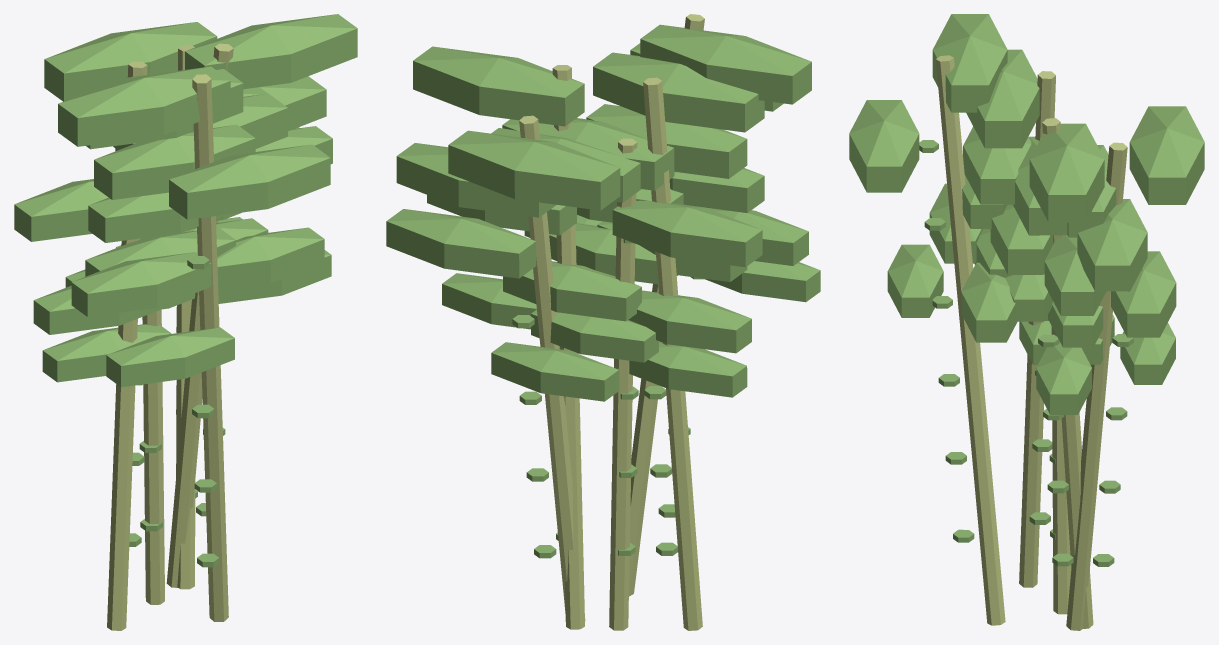
The model's file is bamboo_small.glb.
The picture shows the model from 3 angles, left to right: view 1: azimuth 30°, elevation 25°; view 2: azimuth 150°, elevation 25°; view 3: azimuth 270°, elevation 25°; orthographic projection. The views are drawn at different scales.
Parts seen in each view (by area): view 1: bamboo_small; view 2: bamboo_small; view 3: bamboo_small.
Boxes of the visible parts, x1=… form: bamboo_small: x1=14, y1=14, x2=357, y2=630; bamboo_small: x1=386, y1=14, x2=820, y2=630; bamboo_small: x1=849, y1=14, x2=1204, y2=630.
Size of the model in its own units: 1.98 by 3.28 by 1.93.
